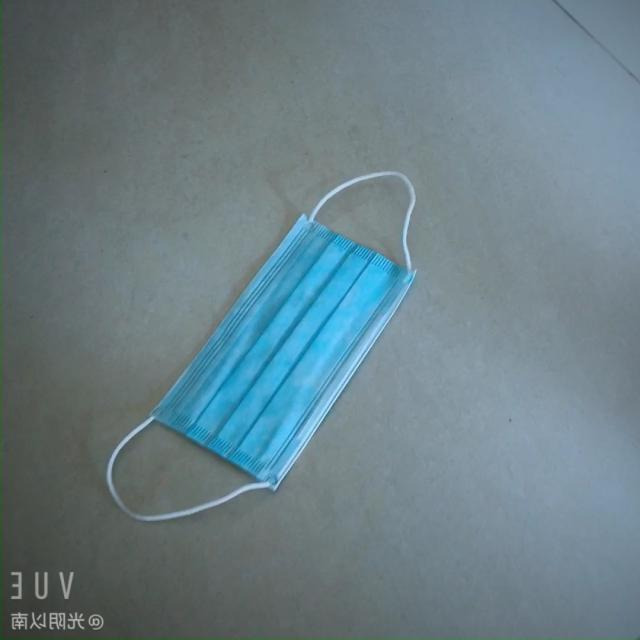face mask: (160, 212, 440, 481)
